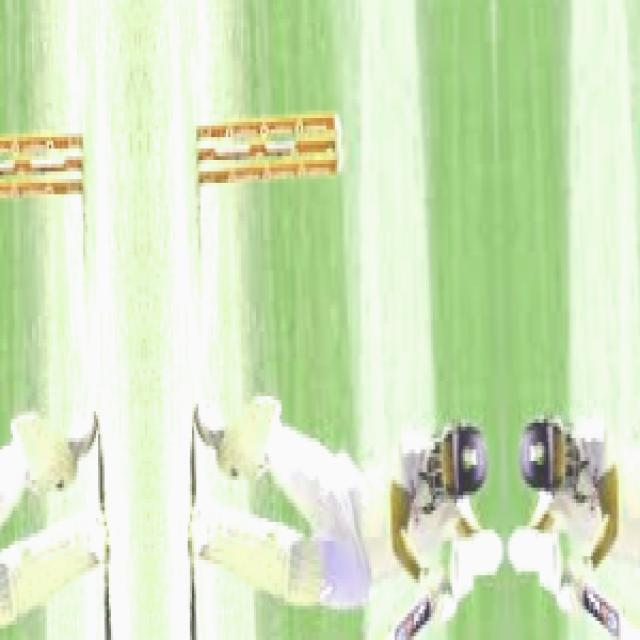bat: (390, 590, 446, 640)
